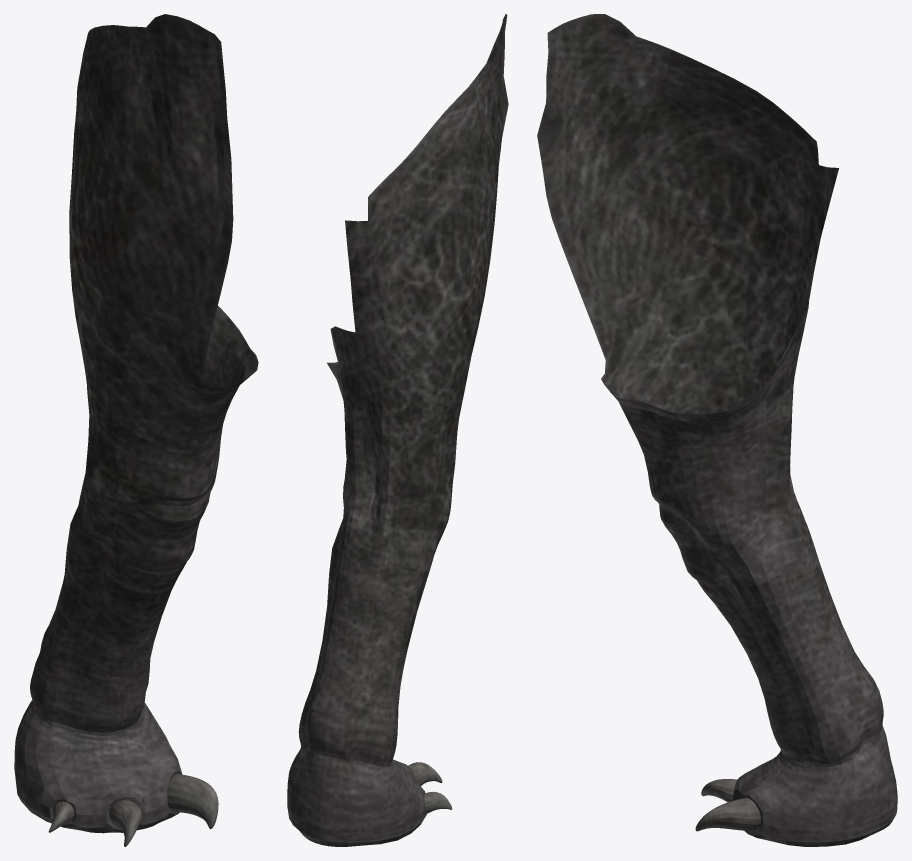
File: DinoLargoMusloDer.obj
3 views of the same model, side by side, from view 1: azimuth 30°, elevation 25°; view 2: azimuth 150°, elevation 25°; view 3: azimuth 270°, elevation 25° (orthographic). The views are drawn at different scales.
Parts seen in each view (by area): view 1: polySurface246; view 2: polySurface246; view 3: polySurface246.
Part boxes in pixels (x1,y1,x2,y2): polySurface246: (14, 14, 258, 846); polySurface246: (287, 14, 508, 846); polySurface246: (537, 14, 897, 846).
Bounding box in the file's own units: 0.8615 × 4.54 × 1.89.
Materials: 2 (2 with a texture image).
